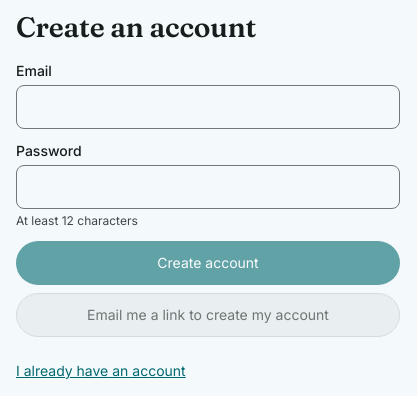
Scenario: SignUpPage (issue #1250) › navigates to the code screen only after the send resolves (issue #1294)
Type "a@b.co" into the field labelled "Email" at (208, 107), box [16,85,400,129]
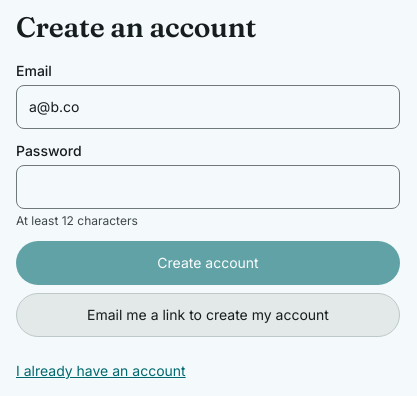
Click the button "Email me a link to create my account" at (208, 315), box [16,293,400,337]
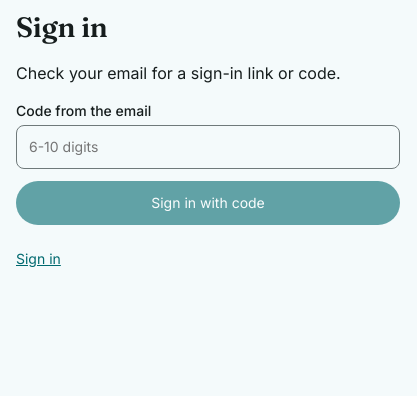
Expected: the field labelled "Code from the email" is shown, [16,125,400,169]
